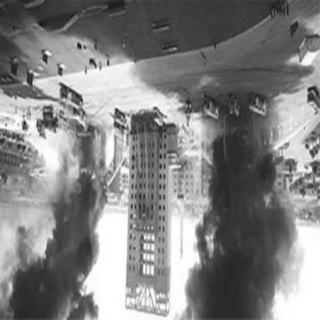Fire: (220, 127, 238, 139), (79, 167, 95, 176)
